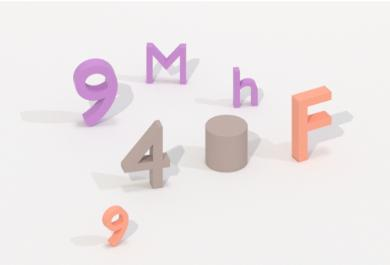0-KhoiTru: (200, 111, 251, 175)
4: (117, 114, 175, 192)
9: (69, 54, 120, 132), (97, 201, 137, 251)
F: (286, 83, 336, 169)
h: (227, 61, 263, 110)
m: (140, 35, 192, 91)
